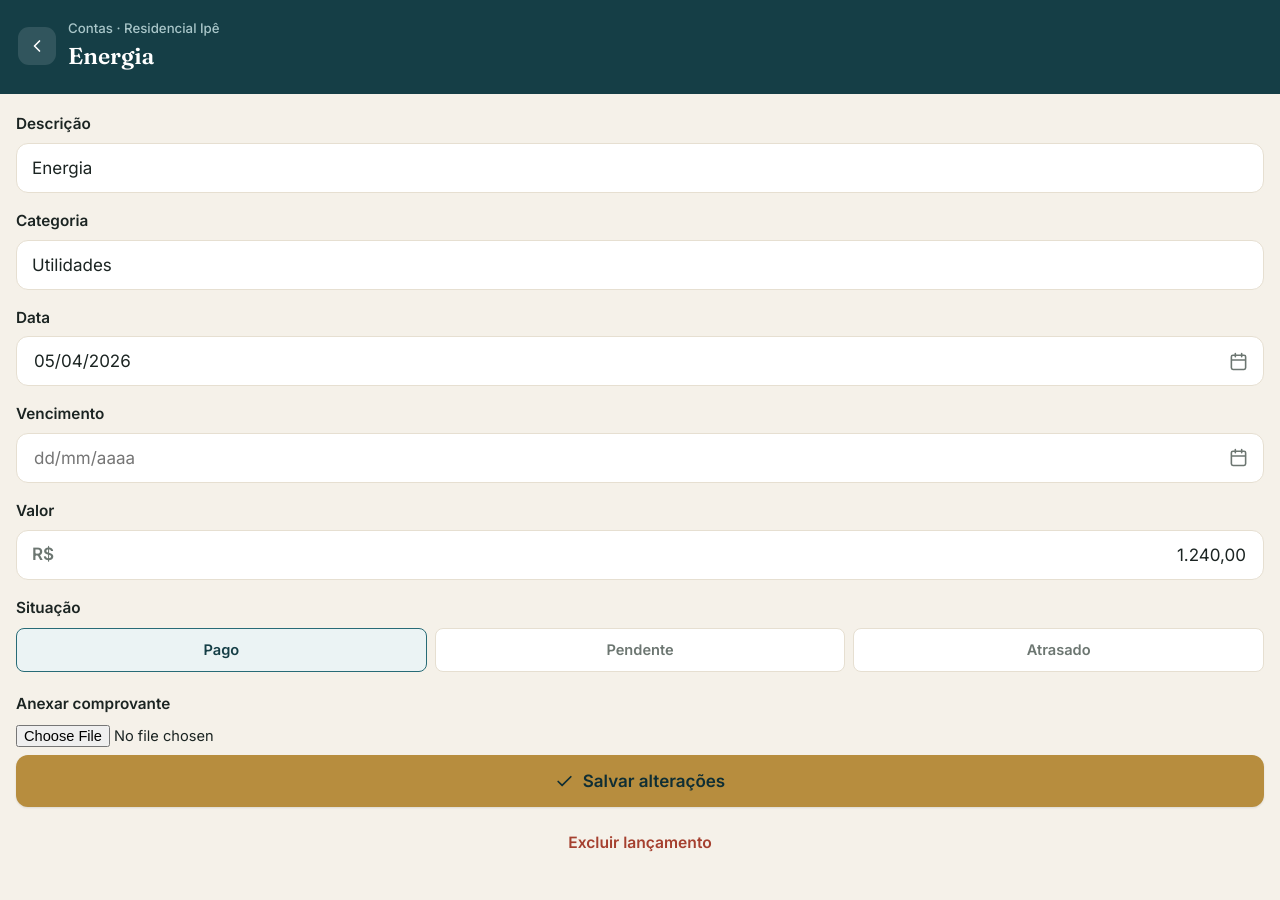
Test: AccountEditScreen › cancelling the delete confirmation does not archive the account
Expected: the field showing "Energia" is shown, 16,143 -> 1264,193
Click the button "Excluir lançamento": click(640, 842) 16,819 -> 1264,865
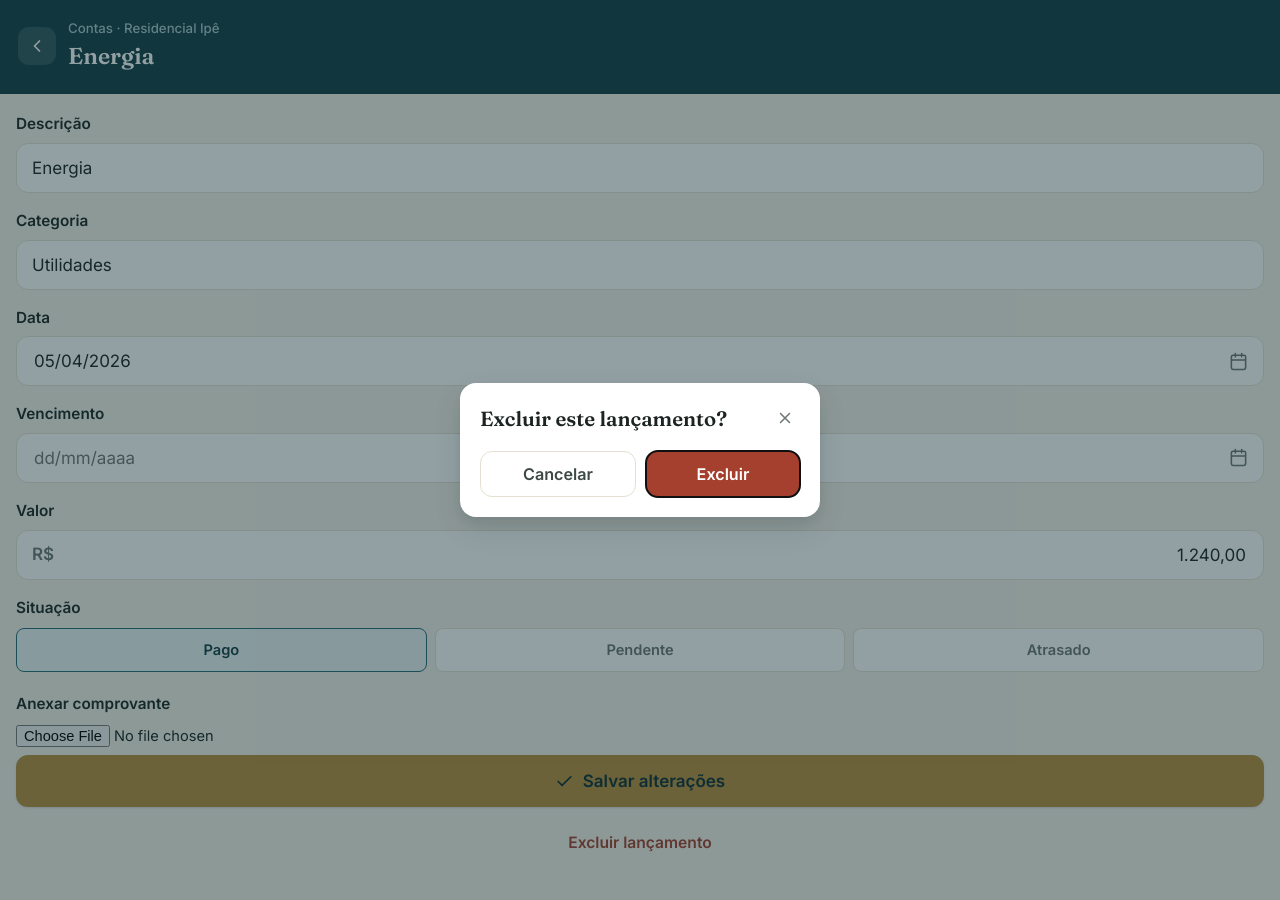
Click the button "Cancelar": click(558, 474) 480,451 -> 636,497
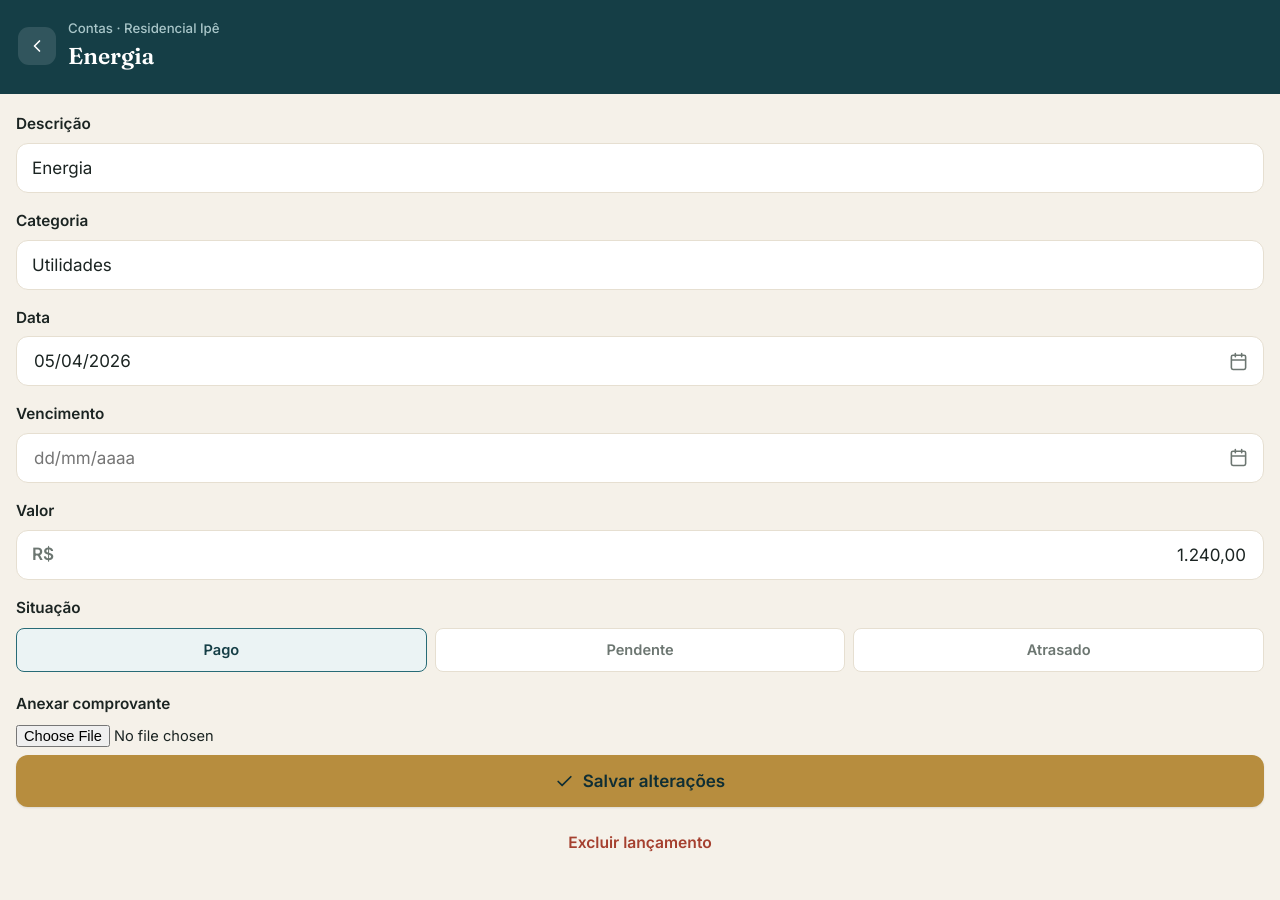
Now the dialog is gone
